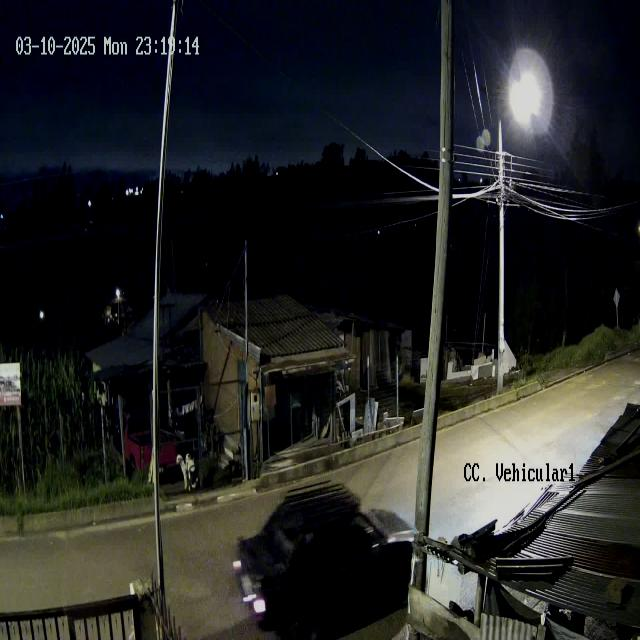SED: (231, 479, 429, 637)
